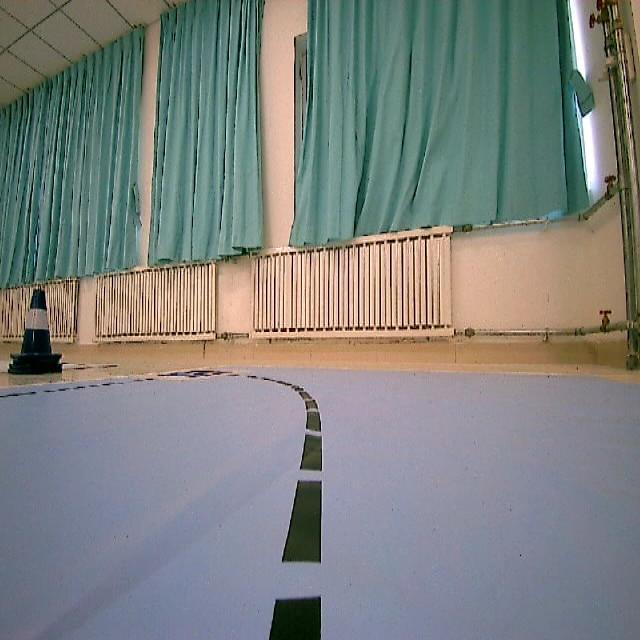obstacle: (6, 292, 64, 388)
